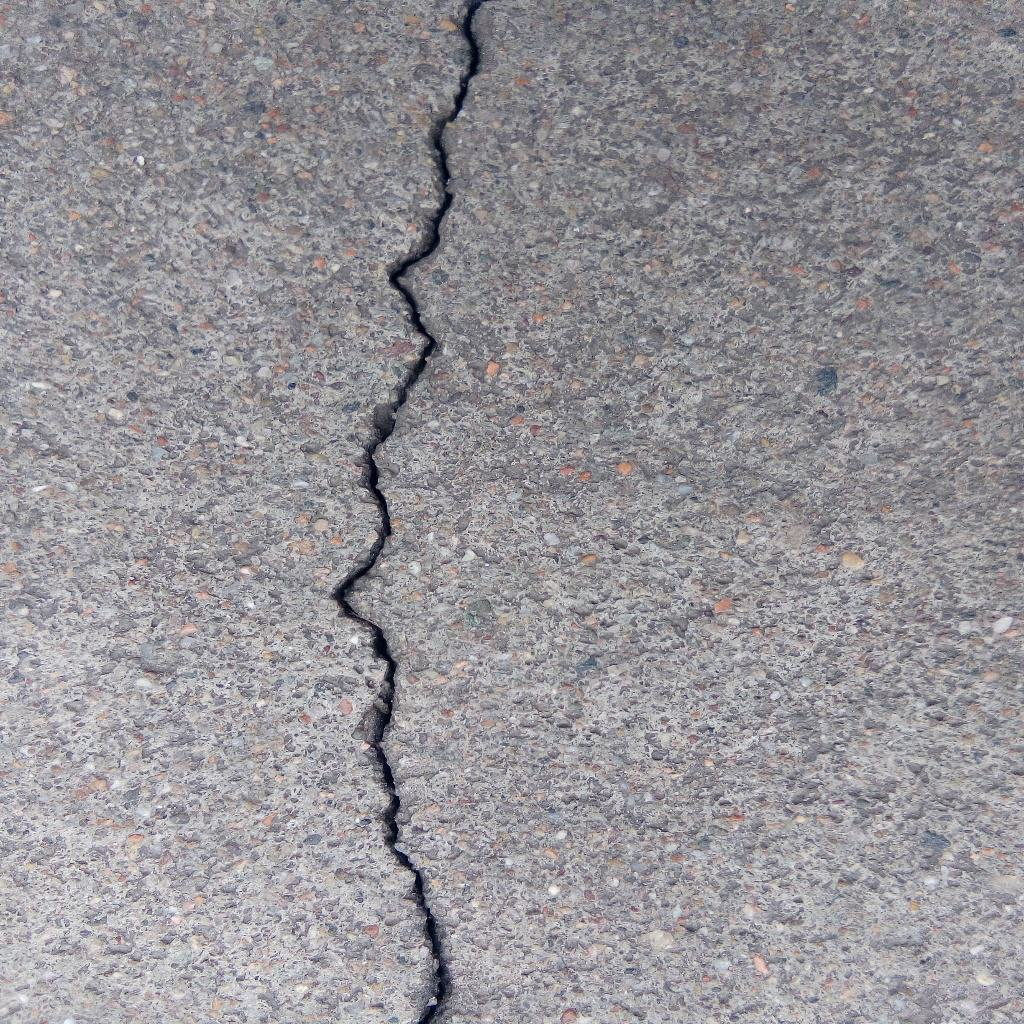Crack: (327, 1, 485, 1024)
